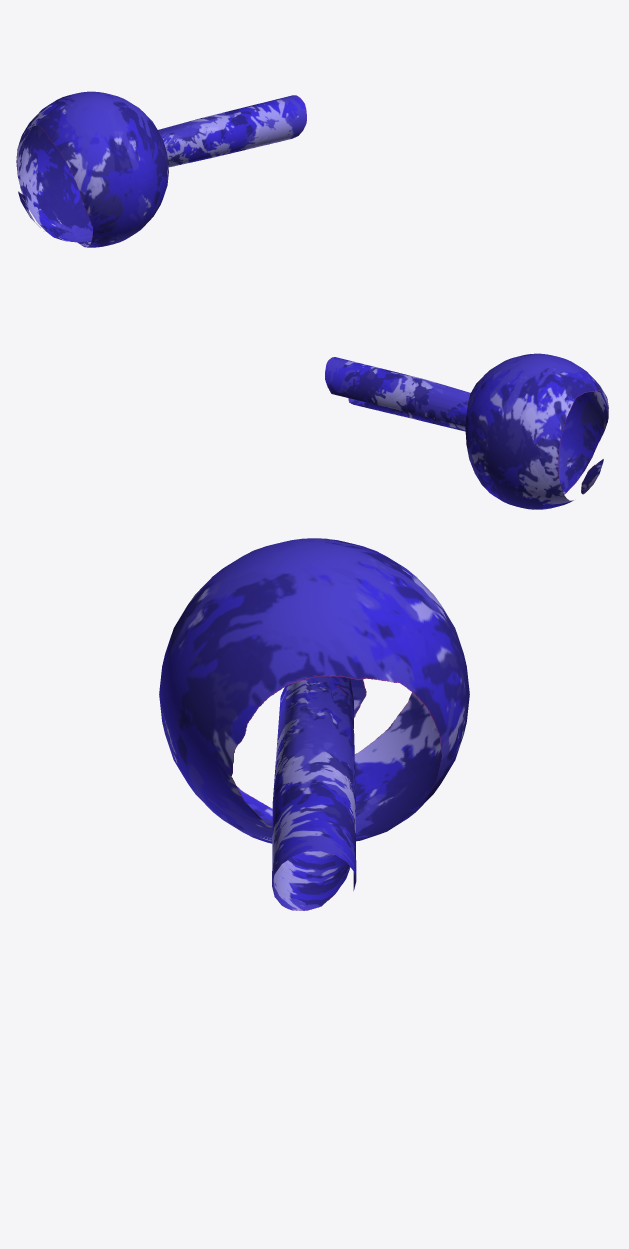
The model's file is tank_blue_barrel.obj.
3 renders of one model, top to bottom at view 1: azimuth 30°, elevation 25°; view 2: azimuth 150°, elevation 25°; view 3: azimuth 270°, elevation 25°, orthographic. The views are drawn at different scales.
Parts seen in each view (by area): view 1: Group1; view 2: Group1; view 3: Group1.
Boxes of the visible parts, x1,y1,x2,y2 form: Group1: [16, 91, 306, 247]; Group1: [325, 353, 608, 509]; Group1: [159, 538, 469, 910].
Size of the model in its own units: 25.19 by 5.94 by 5.88.
